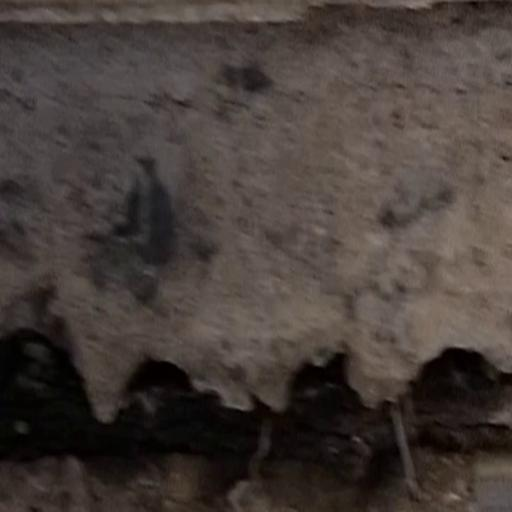spalling: (3, 286, 512, 509)
